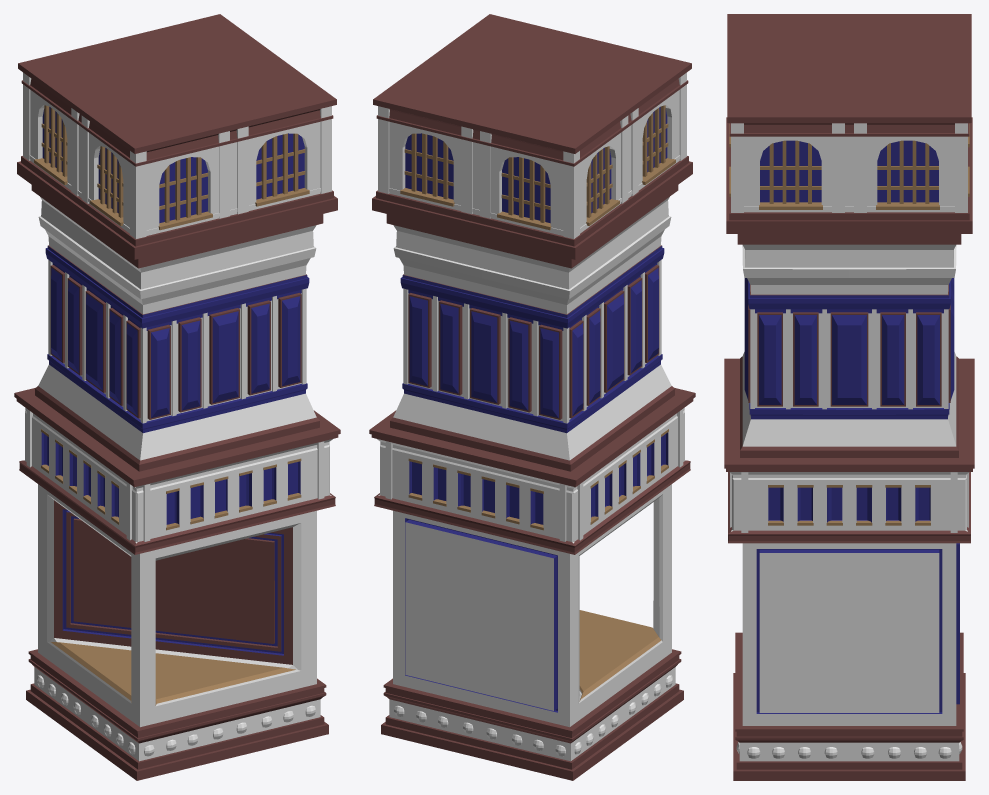
The model's file is floor10.fbx.
The picture shows the model from 3 angles, left to right: view 1: azimuth 30°, elevation 25°; view 2: azimuth 150°, elevation 25°; view 3: azimuth 270°, elevation 25°; orthographic projection. The views are drawn at different scales.
Visible parts, largest first — view 1: floor10.4, floor10.1, floor10.3, floor10.2, floor10.3Decor, floor10.0, floor10.4Decor, floor10.2Decor, floor10.0Decor; view 2: floor10.4, floor10.1, floor10.3, floor10.2, floor10.3Decor, floor10.0, floor10.4Decor, floor10.2Decor, floor10.0Decor; view 3: floor10.4, floor10.1, floor10.3, floor10.2, floor10.3Decor, floor10.0, floor10.4Decor, floor10.2Decor, floor10.0Decor.
Part boxes in pixels (<box>): floor10.4: <box>17,14,337,259</box>; floor10.1: <box>38,484,316,727</box>; floor10.3: <box>31,185,323,471</box>; floor10.2: <box>14,388,340,554</box>; floor10.3Decor: <box>48,260,306,423</box>; floor10.0: <box>26,649,328,780</box>; floor10.4Decor: <box>23,72,331,238</box>; floor10.2Decor: <box>26,409,324,541</box>; floor10.0Decor: <box>37,675,315,756</box>; floor10.4: <box>372,14,692,259</box>; floor10.1: <box>393,484,671,727</box>; floor10.3: <box>386,185,678,471</box>; floor10.2: <box>369,388,695,554</box>; floor10.3Decor: <box>403,260,661,423</box>; floor10.0: <box>381,649,683,780</box>; floor10.4Decor: <box>378,72,686,238</box>; floor10.2Decor: <box>385,409,683,541</box>; floor10.0Decor: <box>394,675,672,756</box>; floor10.4: <box>726,14,972,233</box>; floor10.1: <box>742,543,959,725</box>; floor10.3: <box>737,234,961,457</box>; floor10.2: <box>724,358,974,543</box>; floor10.3Decor: <box>744,278,954,409</box>; floor10.0: <box>733,632,965,780</box>; floor10.4Decor: <box>731,123,967,212</box>; floor10.2Decor: <box>730,472,968,532</box>; floor10.0Decor: <box>736,742,962,758</box>.
Bounding box in the file's own units: 228 × 670 × 228.
